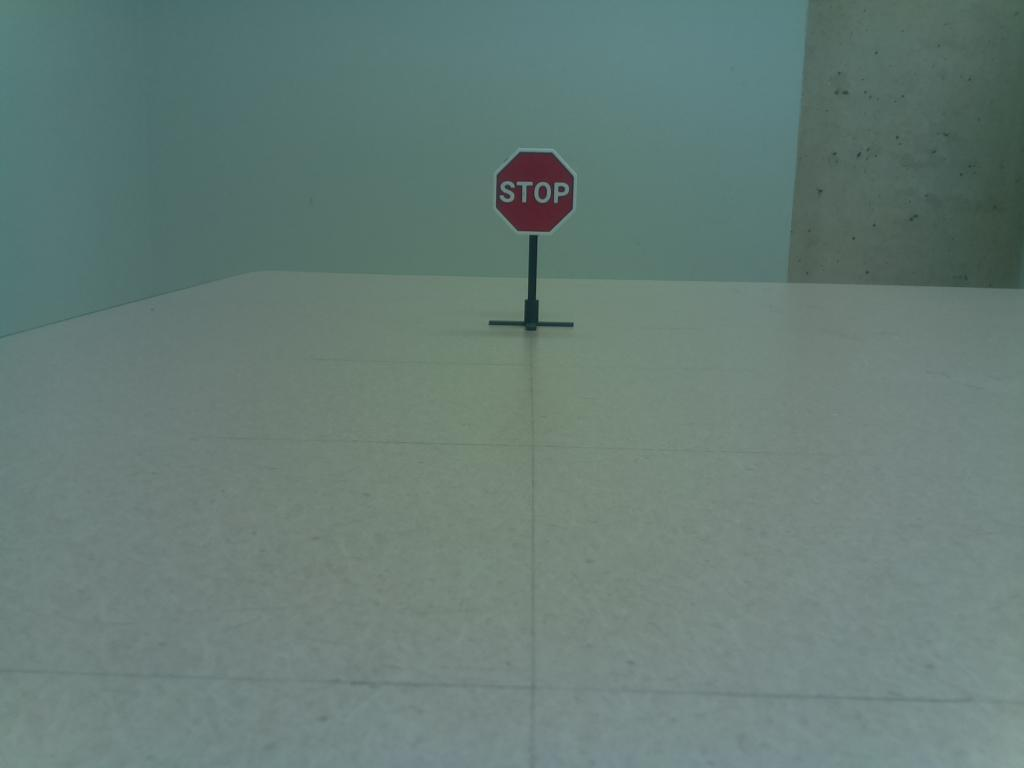sign_stop: (487, 144, 581, 241)
